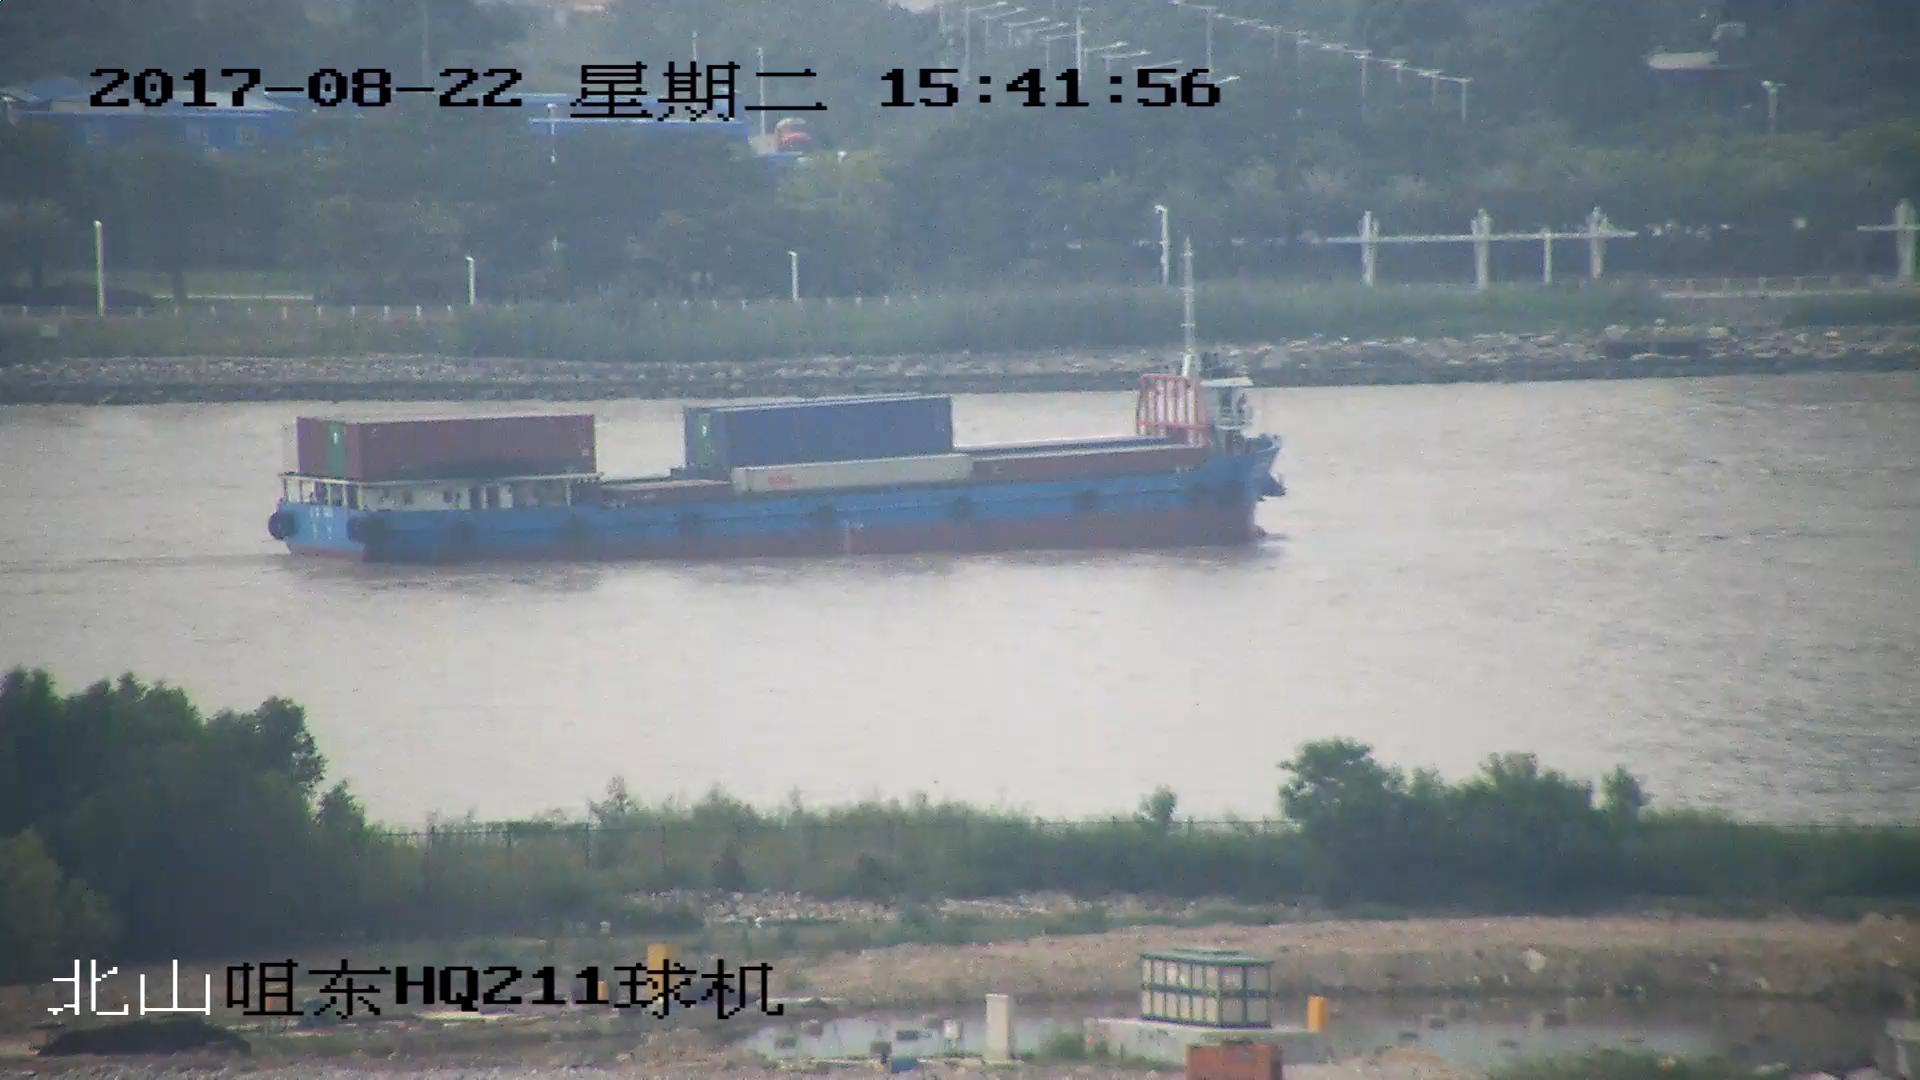container ship: (276, 264, 1289, 569)
